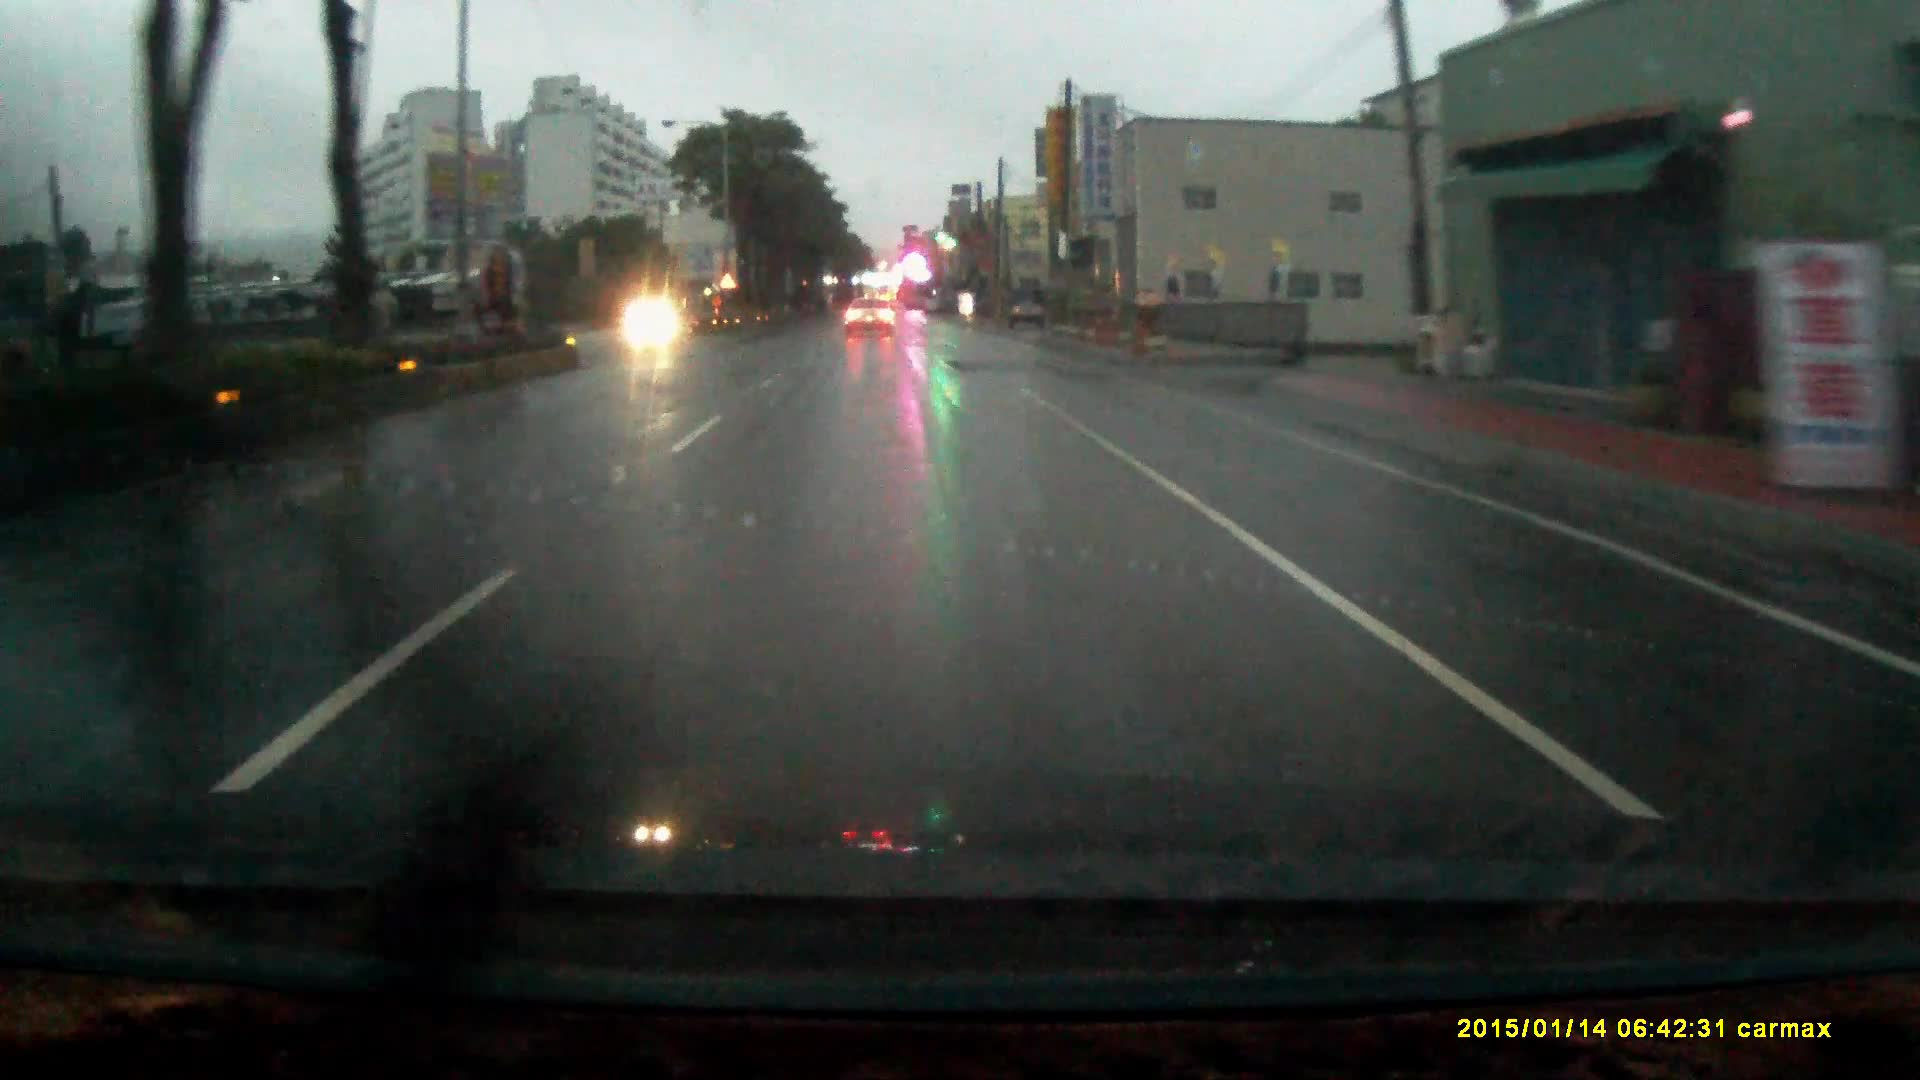vehicle: (847, 302, 899, 343), (1013, 285, 1048, 328)
